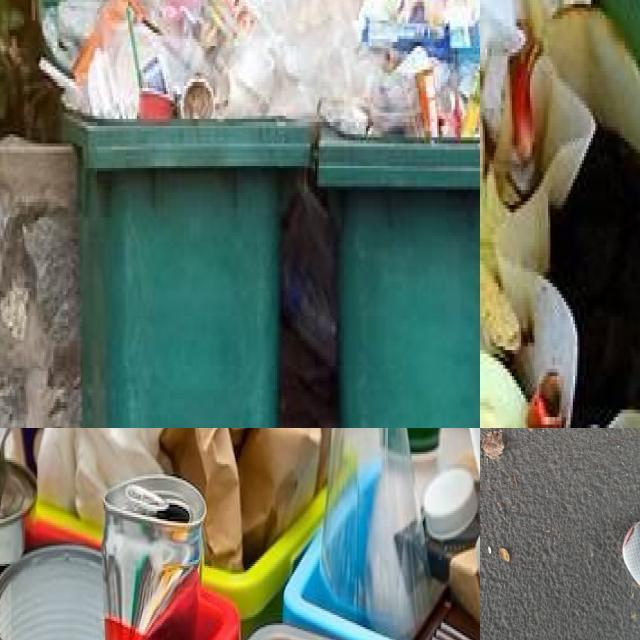Background: (480, 428, 640, 640)
Garbage: (0, 428, 480, 640), (480, 0, 640, 428), (36, 0, 480, 142)
Plastic: (425, 470, 477, 540)
Plastic_Bag: (33, 0, 480, 138)
Plastic_bottle: (321, 428, 432, 639), (407, 428, 440, 504)
can: (102, 475, 206, 640)
tin_box: (0, 545, 103, 640), (0, 428, 36, 573)
